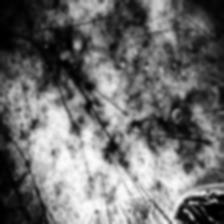Potentially Malignant Skin Tumors: (94, 134, 134, 190)
